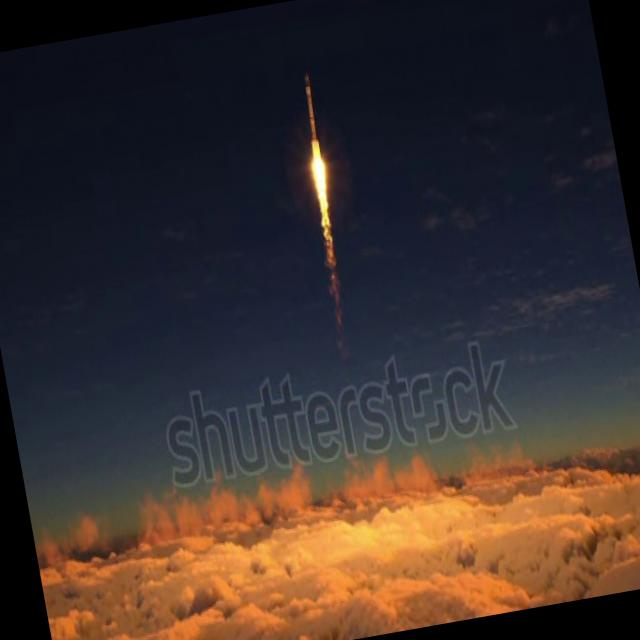rocket: (288, 71, 355, 317)
